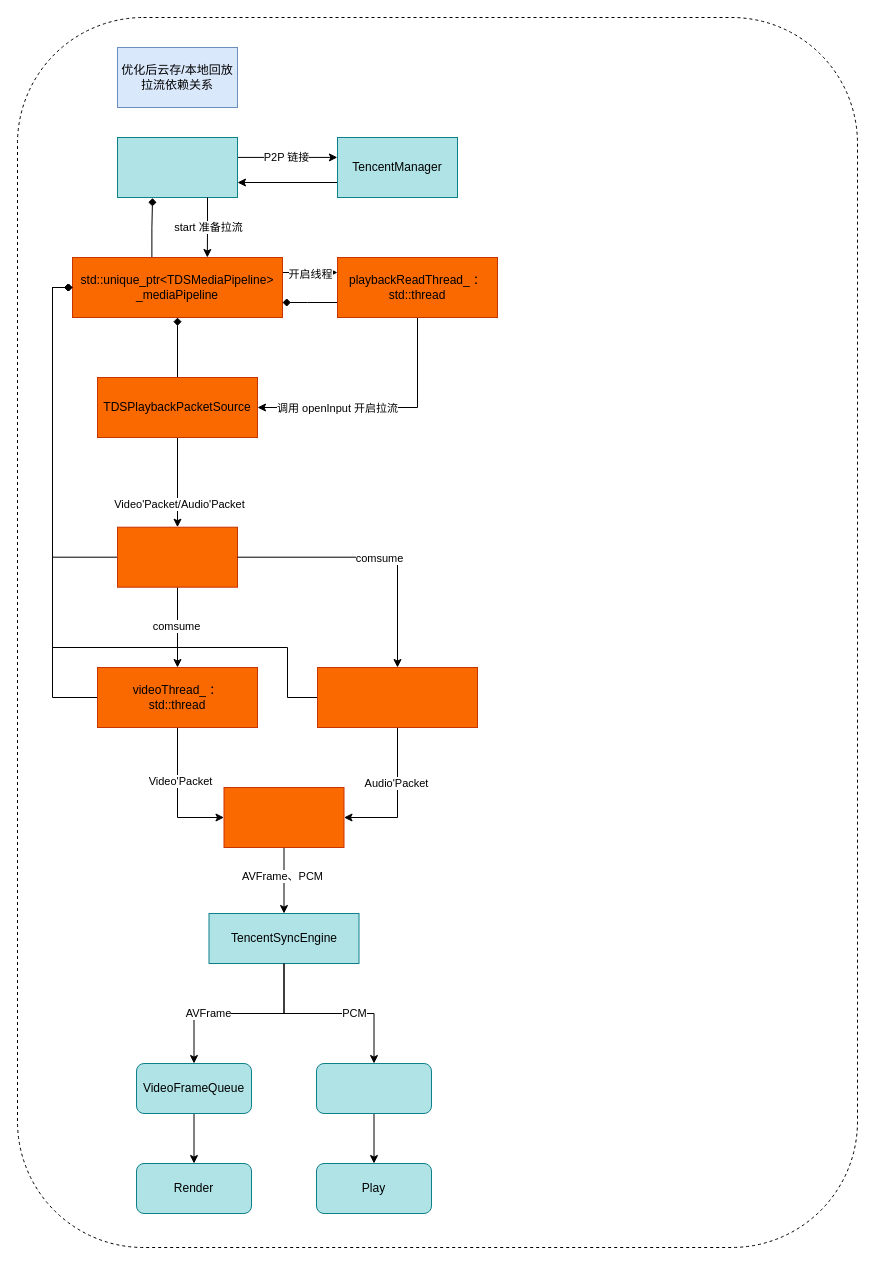
Some shapes in this 875 by 1265 pixel diagram are drawn without their labels. The centre of each missing label's shape, as x and y in pixels:
"AudioPCMQueue" belongs at point (374, 1088).
"audioQueue_ ： std :: thread" belongs at point (397, 697).
"decoder_ : TDSMediaDecoder" belongs at point (283, 817).
"packetQueue_ : TDSPacketQueue" belongs at point (177, 556).
"TencentVodPlayer" belongs at point (177, 167).
